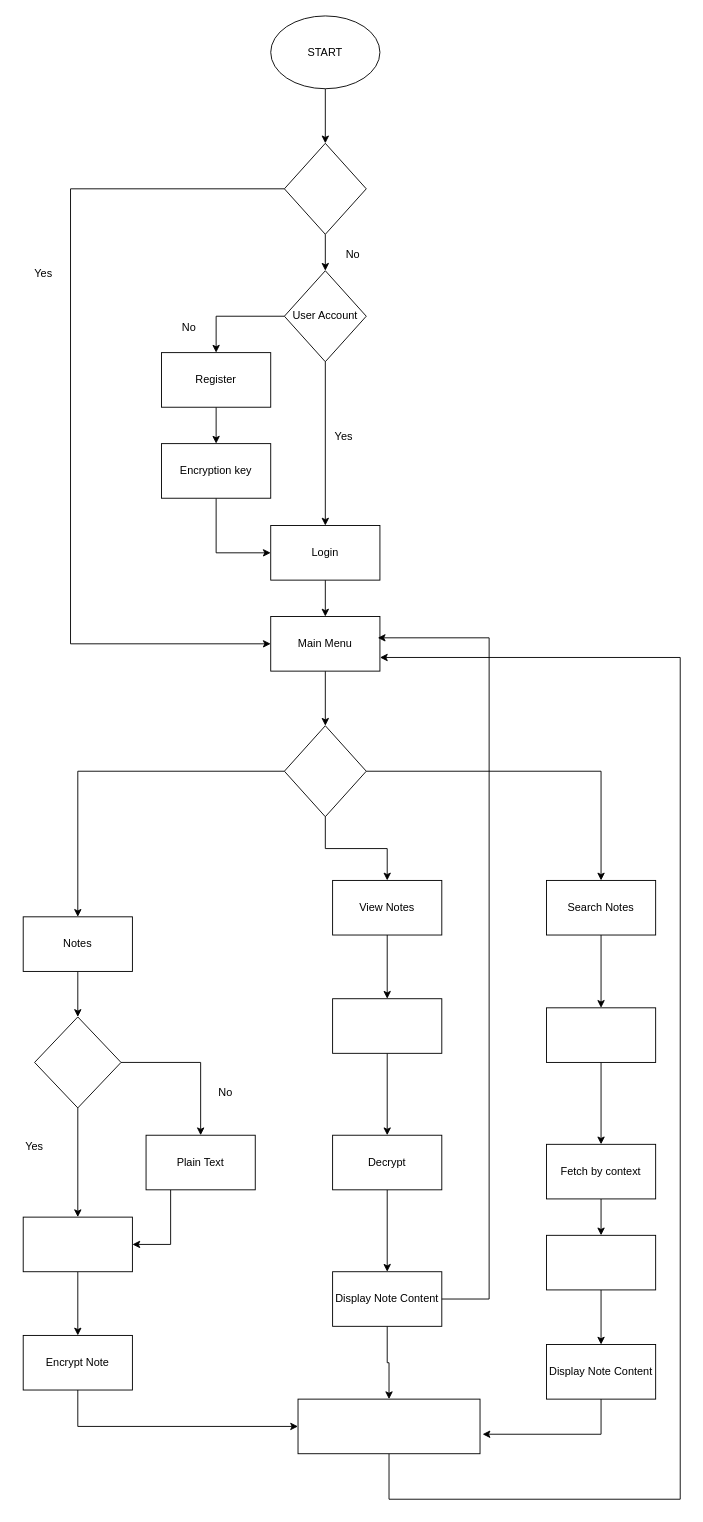
Image size: 703x1522. Some labels were removed from this diagram. Here are the shapes that lost their labels. From the top down, the box of each, then its label:
(283, 142, 366, 234): User Authenticated
(283, 725, 366, 817): User Action
(332, 998, 442, 1053): Fetch Notes
(546, 1007, 656, 1062): Enter Context
(34, 1016, 121, 1108): Markdown
(22, 1216, 132, 1272): Location
(546, 1234, 656, 1290): Decrypt Note
(297, 1398, 480, 1454): Save Note to Server
